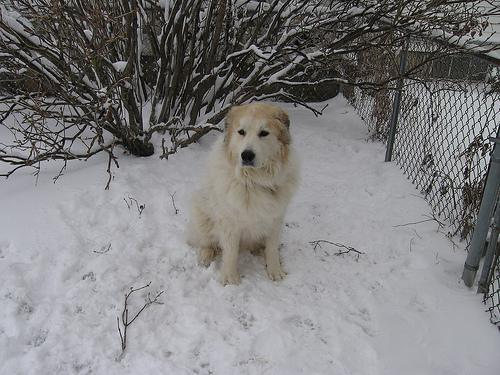Great_Pyrenees: (181, 106, 300, 287)
